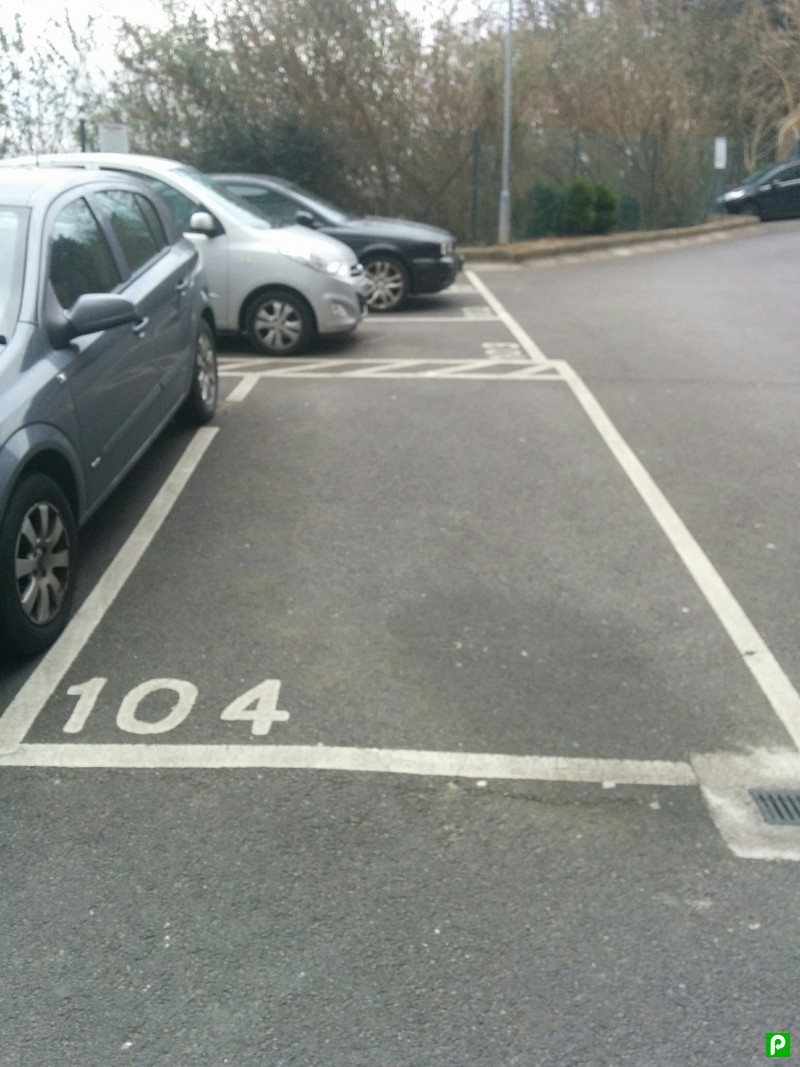empyt_space: (1, 304, 800, 801)
